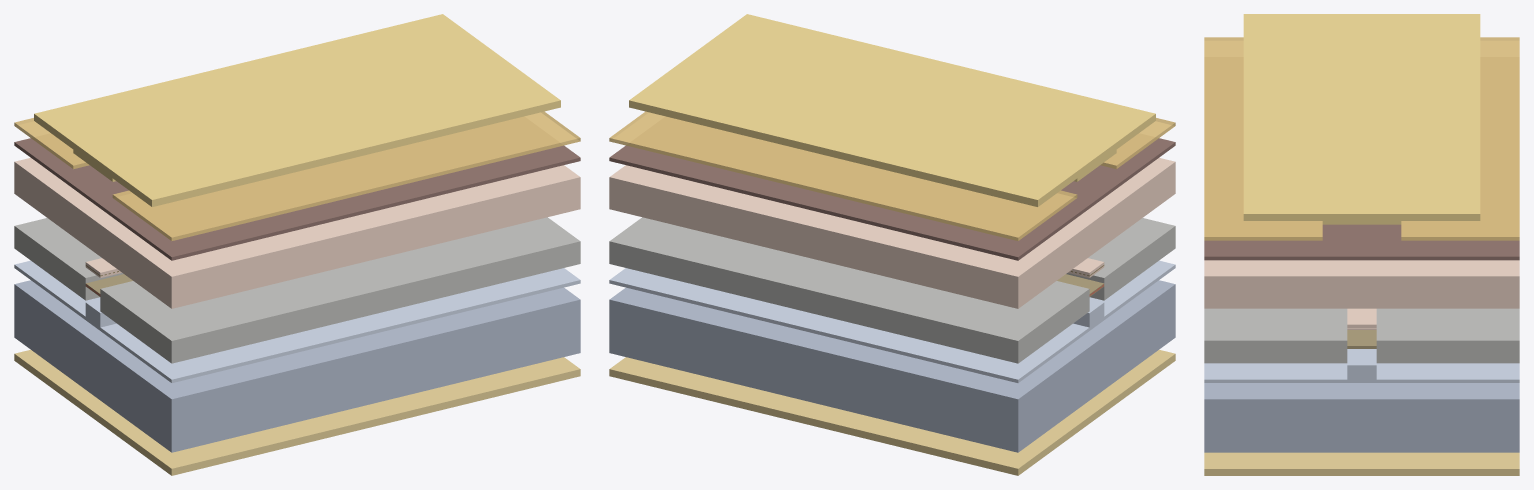
The model's file is stack-bh-x.glb.
3 renders of one model, left to right at view 1: azimuth 30°, elevation 25°; view 2: azimuth 150°, elevation 25°; view 3: azimuth 270°, elevation 25°, orthographic.
Visible parts, largest first — view 1: pmetal, sub, feinp, pinp, sin, nmetal, cap, ninp; view 2: pmetal, sub, feinp, pinp, sin, nmetal, cap, ninp; view 3: pmetal, sub, sin, feinp, pinp, cap, nmetal, ninp, sch.
Boxes of the visible parts, bbox=[...] form: pmetal: bbox=[34, 14, 560, 206]; sub: bbox=[14, 280, 580, 452]; feinp: bbox=[14, 217, 580, 363]; pinp: bbox=[14, 157, 580, 308]; sin: bbox=[14, 111, 580, 240]; nmetal: bbox=[14, 349, 580, 475]; cap: bbox=[14, 138, 580, 260]; ninp: bbox=[14, 260, 580, 382]; pmetal: bbox=[629, 14, 1155, 206]; sub: bbox=[609, 280, 1175, 452]; feinp: bbox=[609, 217, 1175, 363]; pinp: bbox=[609, 157, 1175, 308]; sin: bbox=[609, 111, 1175, 240]; nmetal: bbox=[609, 349, 1175, 475]; cap: bbox=[609, 138, 1175, 260]; ninp: bbox=[609, 260, 1175, 382]; pmetal: bbox=[1243, 14, 1480, 224]; sub: bbox=[1204, 383, 1519, 452]; sin: bbox=[1204, 37, 1519, 240]; feinp: bbox=[1204, 308, 1519, 363]; pinp: bbox=[1204, 260, 1519, 329]; cap: bbox=[1204, 224, 1519, 260]; nmetal: bbox=[1204, 452, 1519, 475]; ninp: bbox=[1204, 349, 1519, 382]; sch: bbox=[1347, 330, 1376, 348].
Size of the model in its own units: 24 by 14.67 by 16.
